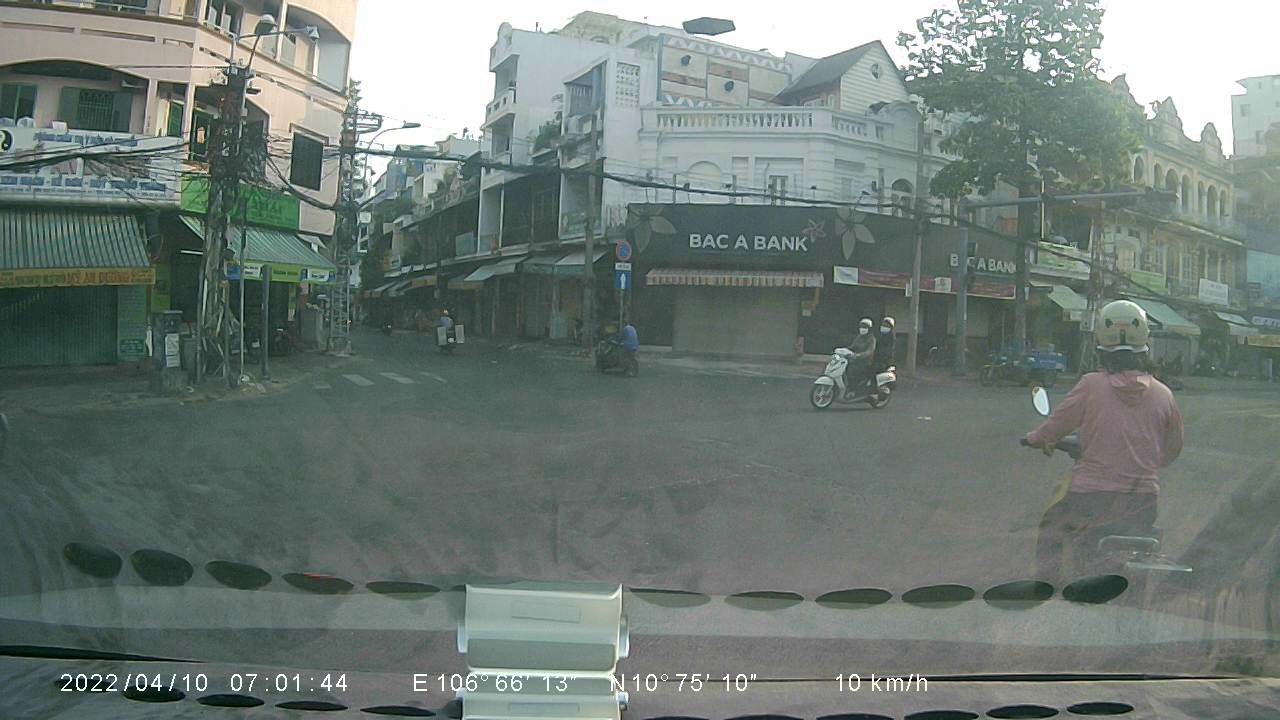Bien khac: (611, 267, 633, 293)
